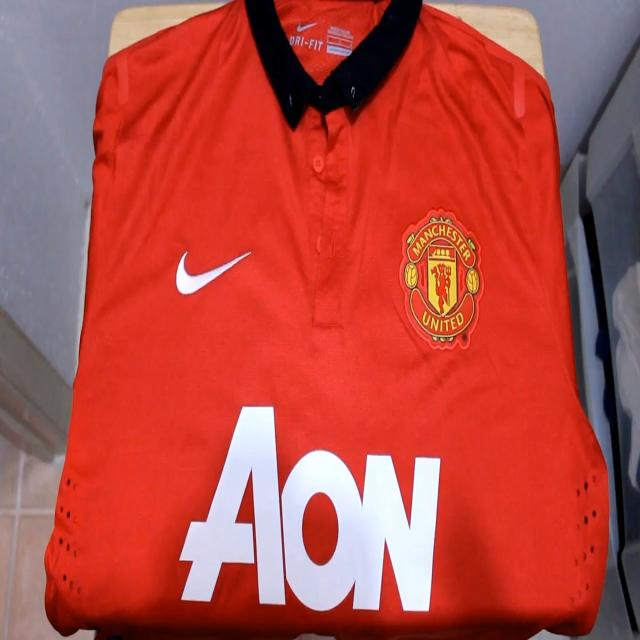Shirt: (43, 0, 609, 640)
